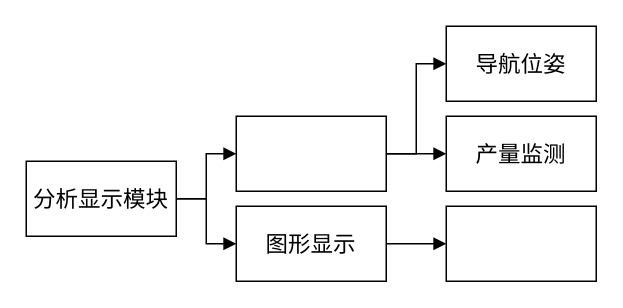
This 623x308 diagram has some shape labels left out. The shapes that lost their labels are listed below. From the top down, each one's box as (x1, y1, x2, y2) in pixels, then its label:
(235, 115, 386, 191): 数据显示
(445, 205, 596, 281): 农机轨迹
